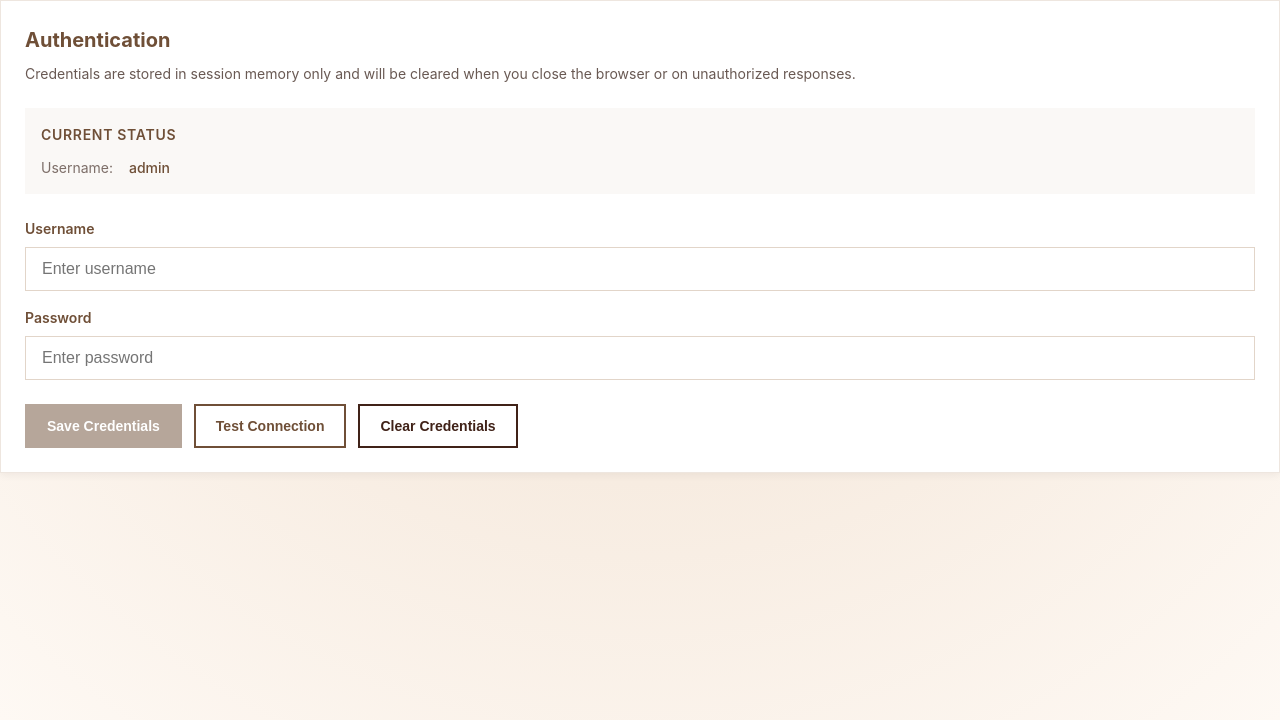
Test: AuthSettingsPanel › Clear Credentials › hides clear button after credentials are cleared
Click the button "Clear Credentials" at [438, 426], box [358,404,518,448]
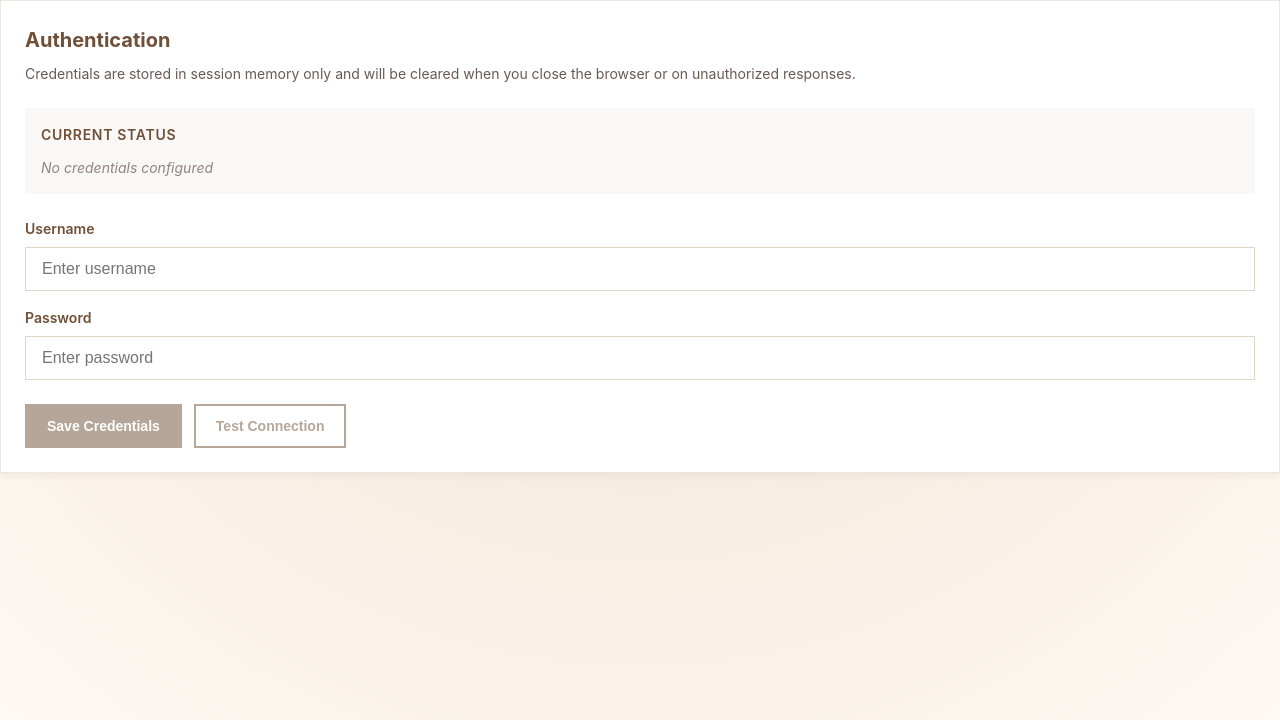
expect the button "Clear Credentials" is gone: met
